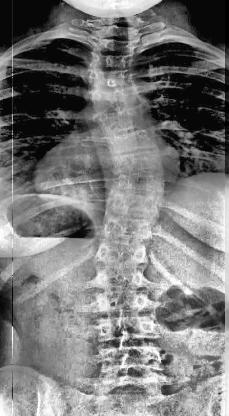Vertebrae: (93, 314, 163, 346), (90, 125, 162, 155), (84, 102, 150, 134), (99, 166, 174, 194), (97, 344, 167, 374), (97, 191, 166, 220), (97, 146, 167, 174), (91, 290, 161, 318), (94, 216, 162, 244), (89, 264, 157, 292), (90, 240, 152, 269), (84, 84, 144, 112), (82, 64, 132, 90), (86, 33, 140, 55), (86, 51, 136, 73)
